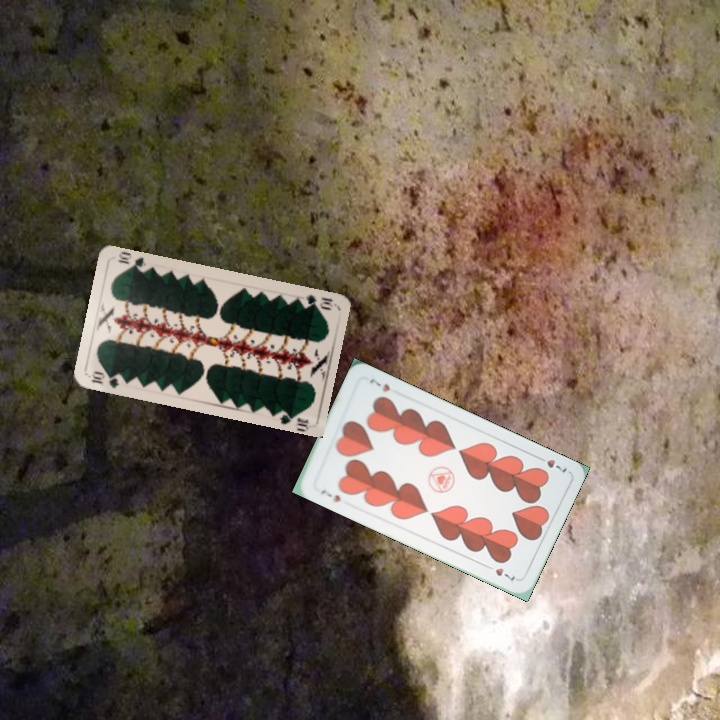G10: (295, 291, 335, 313), (87, 367, 122, 391)
H7: (532, 452, 570, 475), (317, 485, 343, 505)
